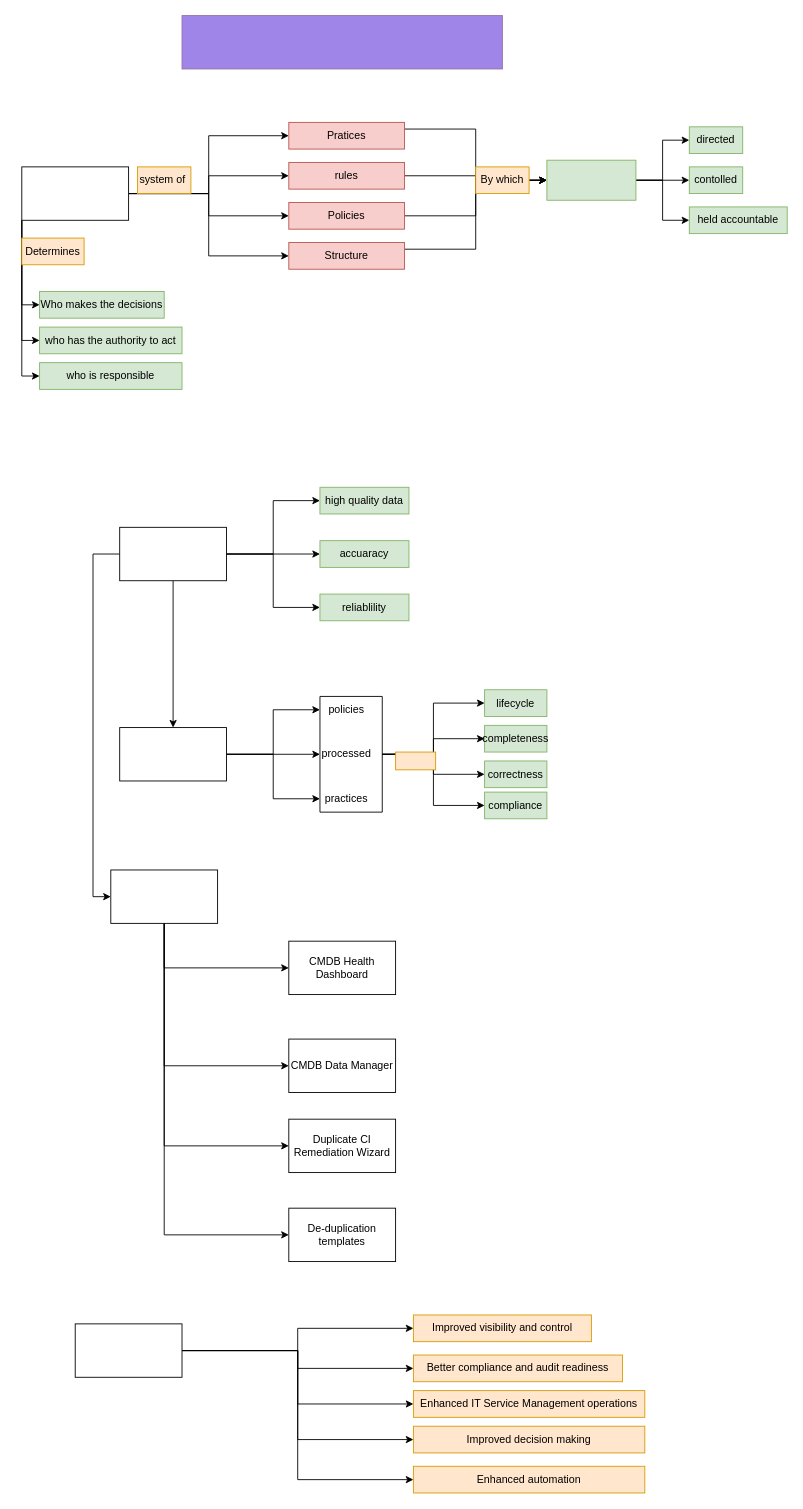
Some shapes in this 803 by 1509 pixel diagram are drawn without their labels. Here are the shapes that lost their labels. From the top down, the centre of each, then its label:
[341,42]: GOVERN THE CMDB
[75,193]: Governance
[591,179]: Organization is
[173,553]: CMDB Governance
[173,754]: Encompasses
[415,760]: manage
[164,896]: CMDB Tools and feature
[128,1350]: ServiceNow Management tools offers several benefits
